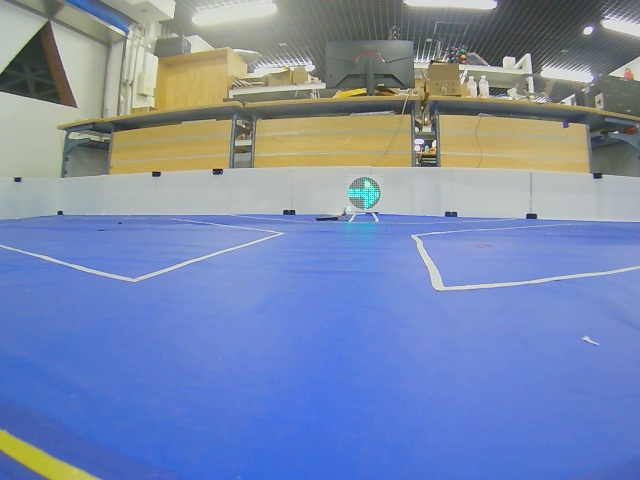right_green: (347, 177, 381, 210)
